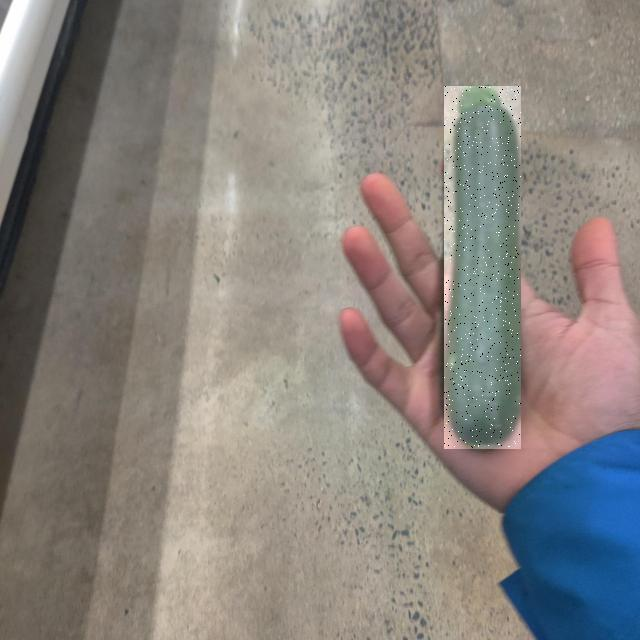Zuccini: (444, 86, 521, 449)
